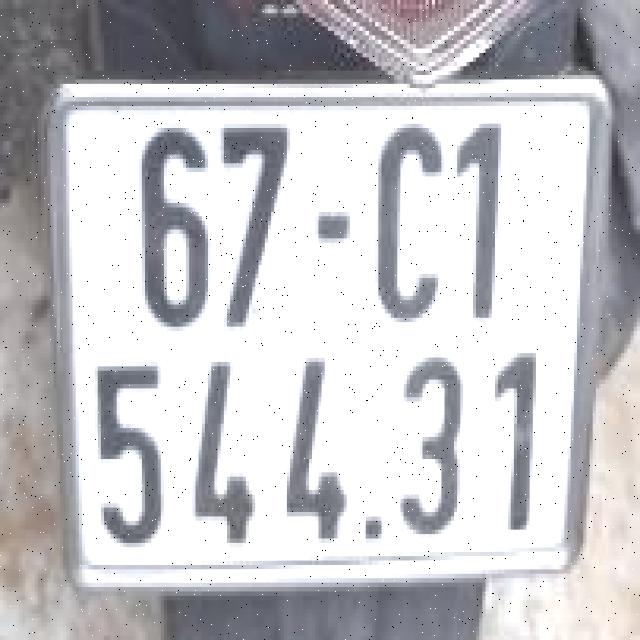1: (448, 112, 514, 338), (491, 327, 554, 547)
3: (391, 333, 467, 554)
4: (273, 340, 358, 547), (185, 351, 260, 554)
5: (84, 351, 168, 558)
6: (131, 108, 216, 333)
7: (222, 119, 295, 336)
C: (367, 119, 456, 336)
